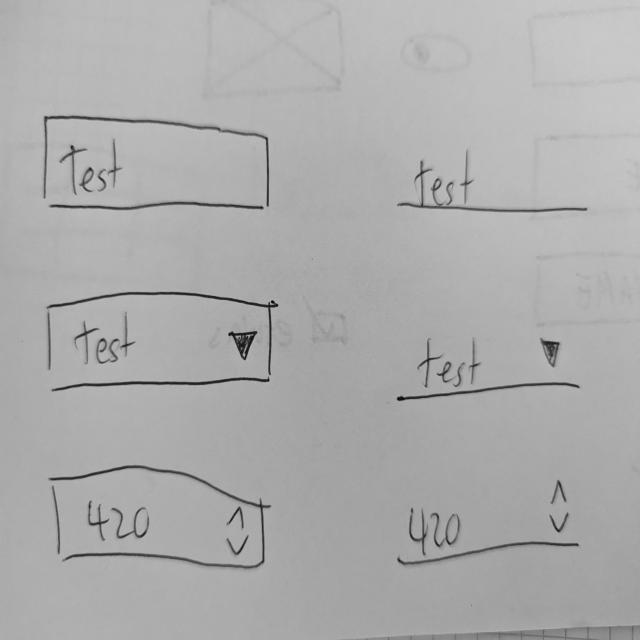input: (41, 113, 276, 220), (397, 144, 591, 219)
number-input: (49, 462, 271, 573), (393, 474, 585, 576)
select: (42, 289, 277, 394), (395, 330, 581, 409)
